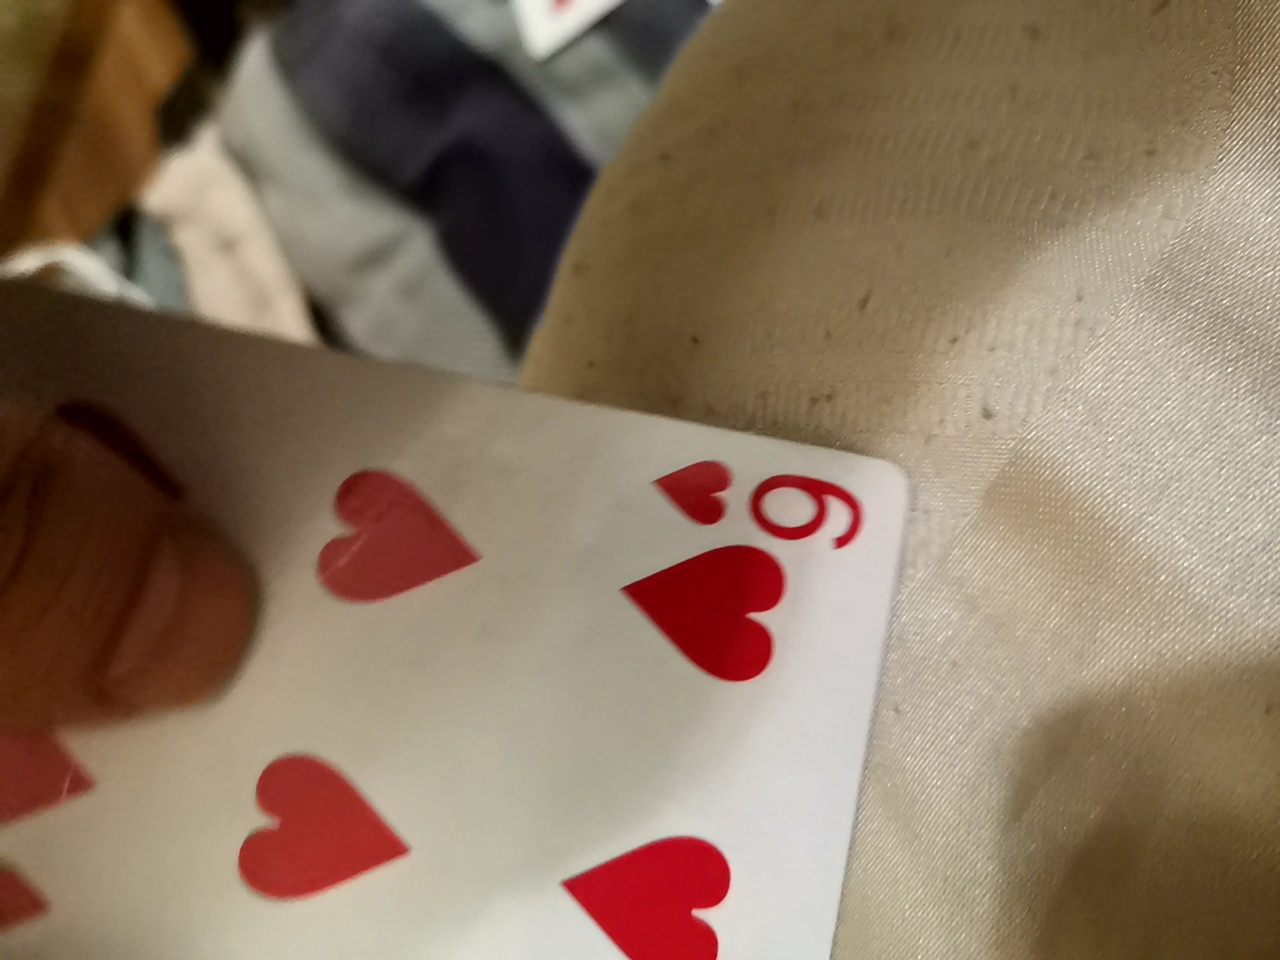hx 6: (11, 329, 925, 960)
